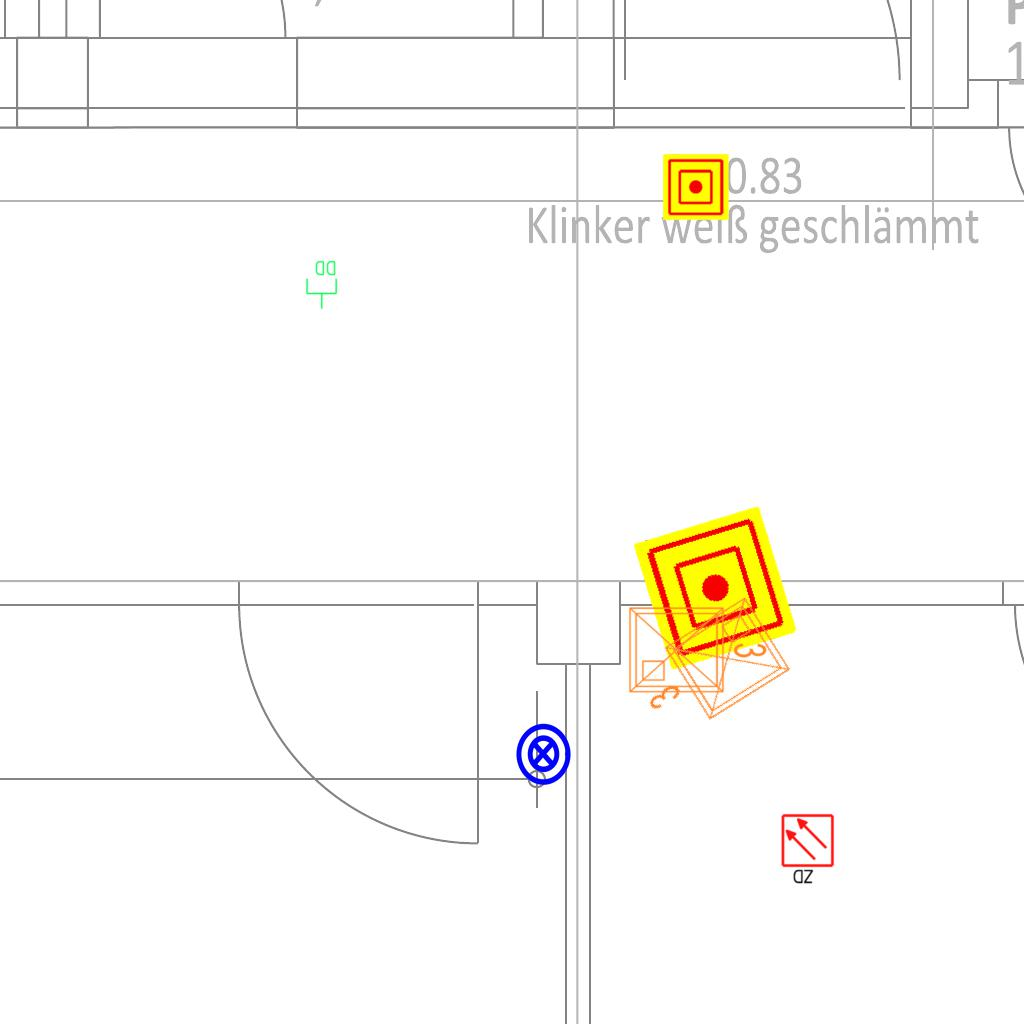Datenanschluss_zweifach: (305, 259, 339, 310)
Einbaudownlights_LED_Konferenzraeume: (619, 587, 803, 755), (622, 596, 772, 700)
NAM-Nichtautomatischer_Melder: (632, 505, 798, 671), (663, 154, 729, 220)
Taster_beleuchtet: (510, 721, 576, 787)
ZD_Melder_in_Zwischendecke_mit_Revisionsoeffnung_mind_40_x_40_cm: (780, 813, 837, 887)
